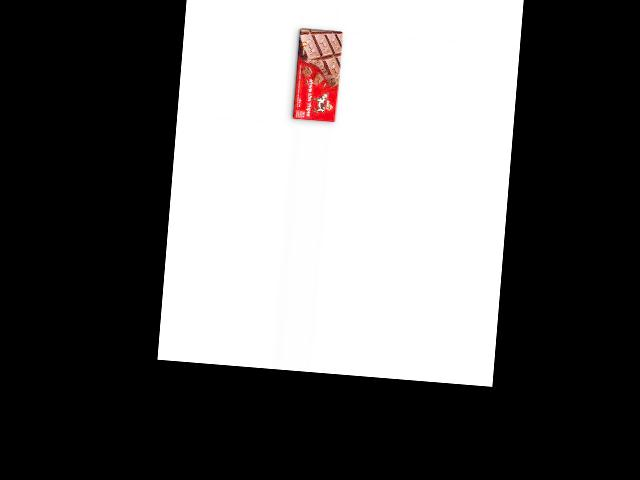chocolate: (288, 25, 345, 125)
